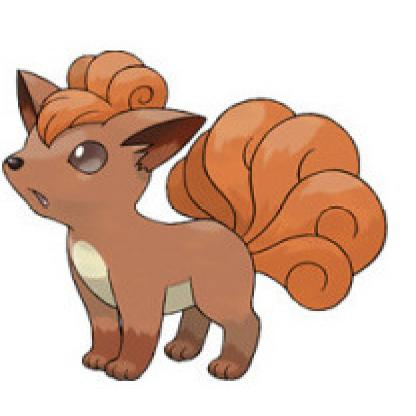Vulpix: (2, 57, 393, 386)
